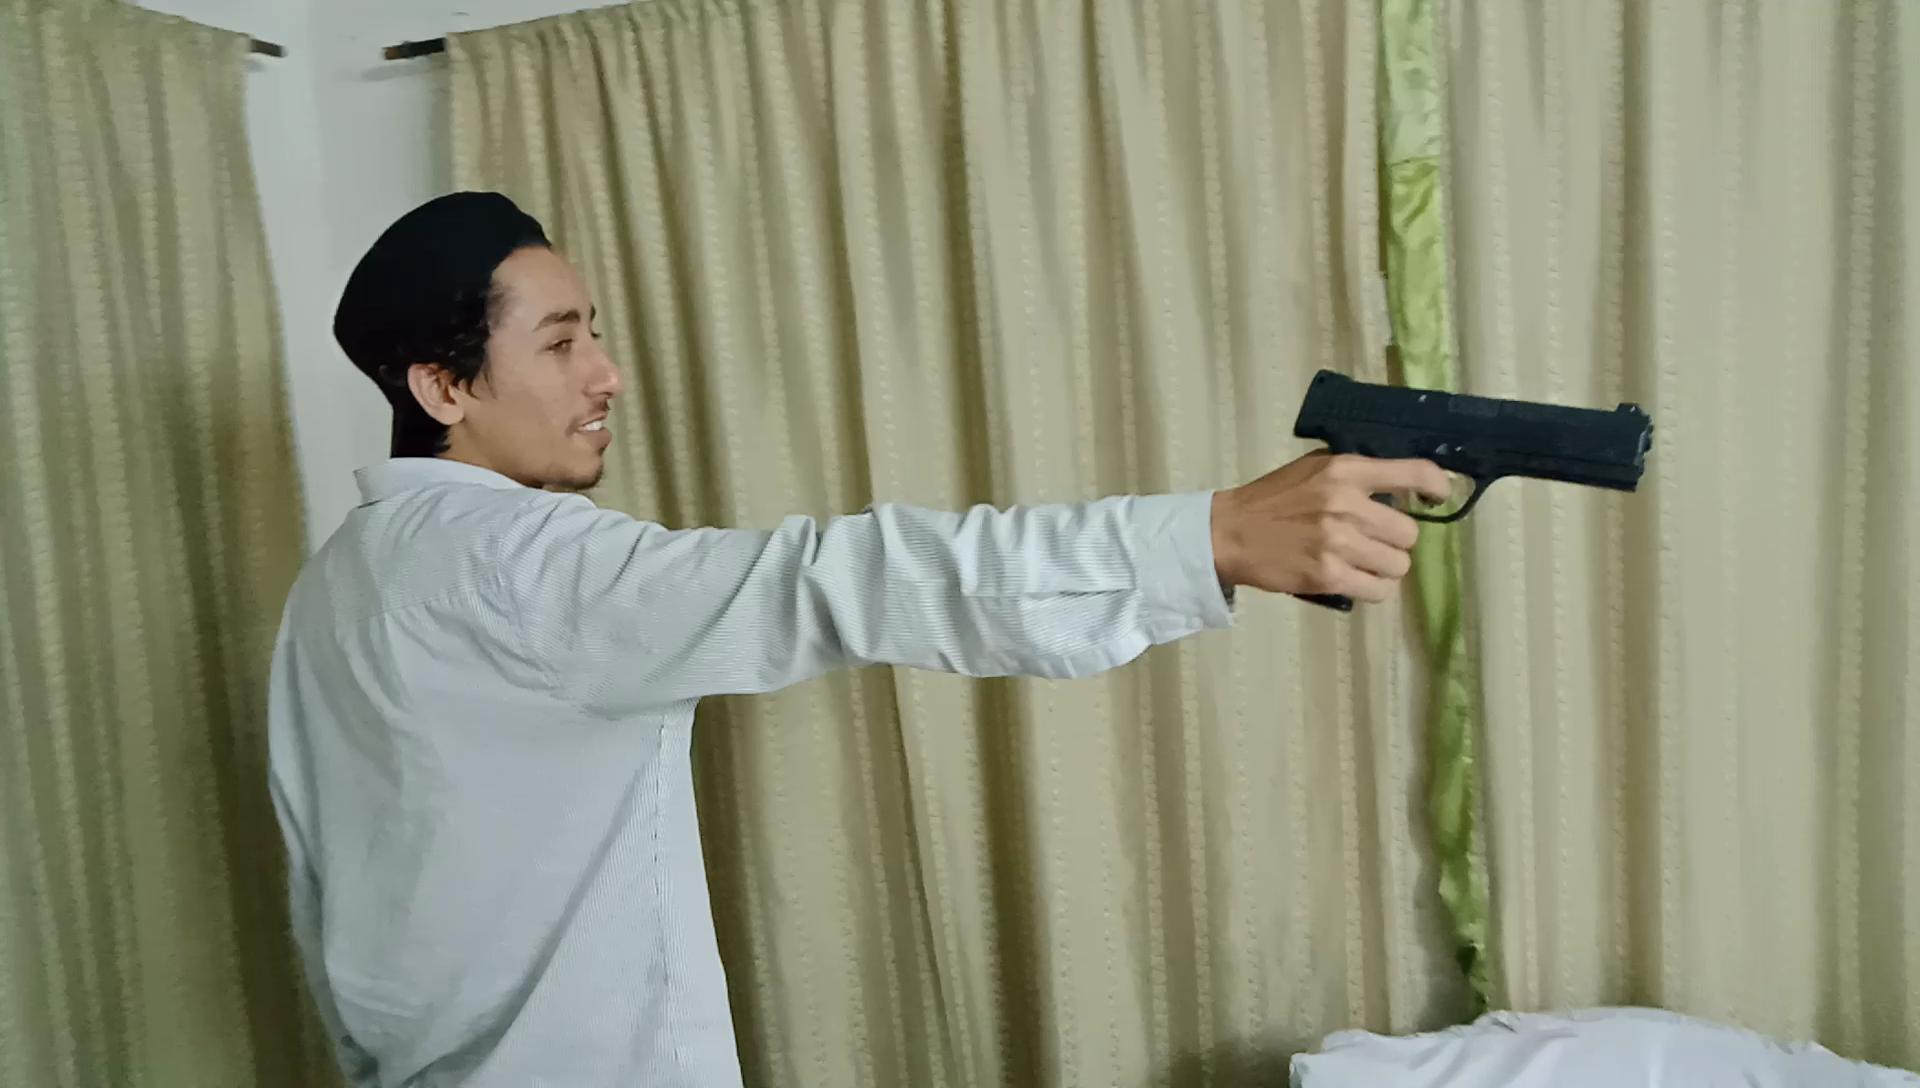criminal: (265, 189, 1665, 1088)
weapon: (1284, 363, 1663, 621)
